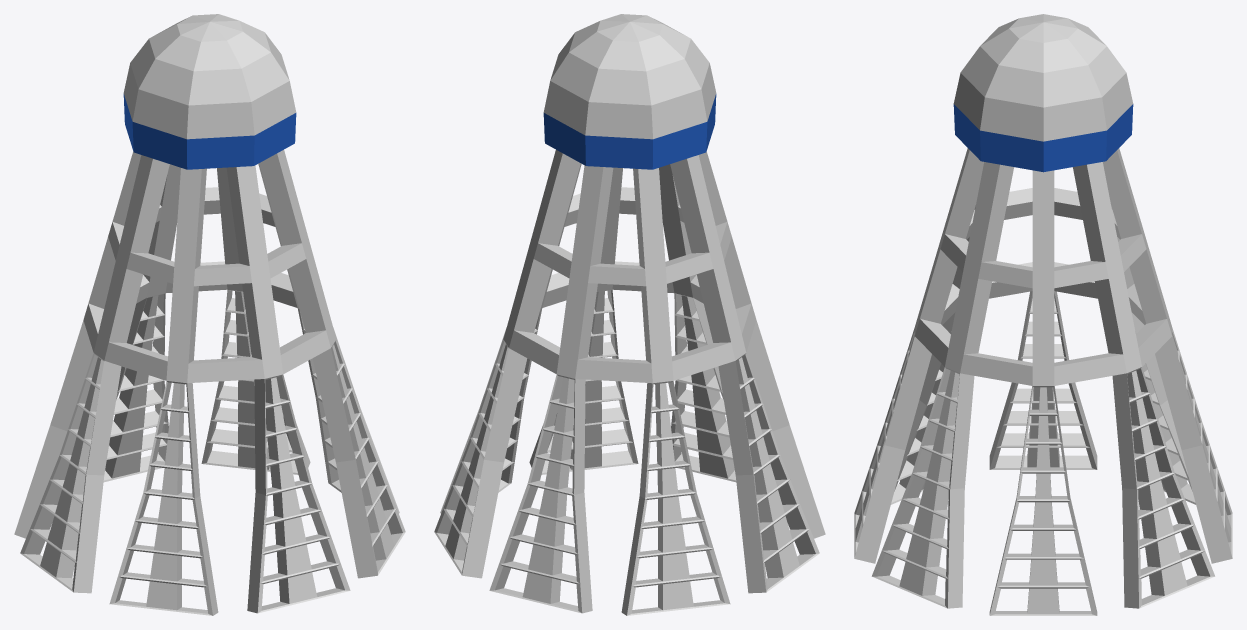
Rendered from Shuttlecock.fbx.
3 views of the same model, side by side, from view 1: azimuth 30°, elevation 25°; view 2: azimuth 150°, elevation 25°; view 3: azimuth 270°, elevation 25° (orthographic).
Parts seen in each view (by area): view 1: Shuttlecock; view 2: Shuttlecock; view 3: Shuttlecock.
Boxes of the visible parts, x1,y1,x2,y2 form: Shuttlecock: [14, 14, 405, 615]; Shuttlecock: [434, 14, 825, 615]; Shuttlecock: [854, 14, 1232, 615].
Size of the model in its own units: 84.26 by 127 by 84.26.
